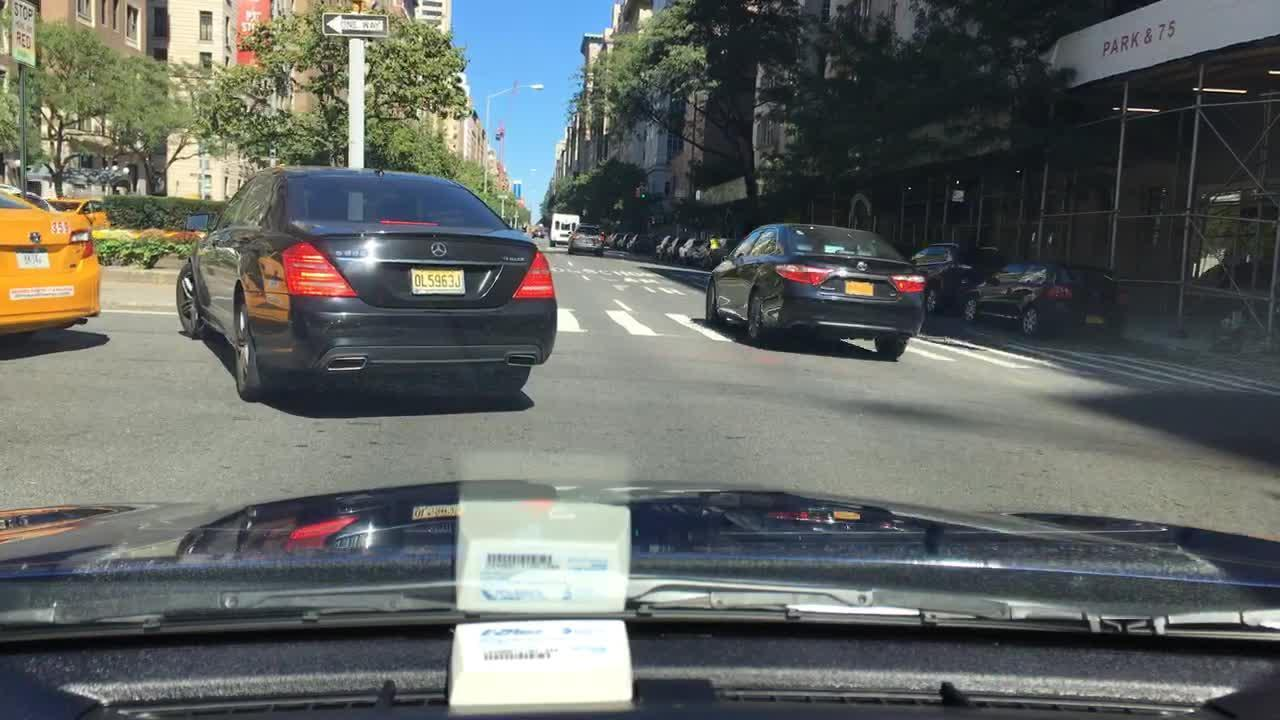Mercedes: (424, 233, 458, 269)
